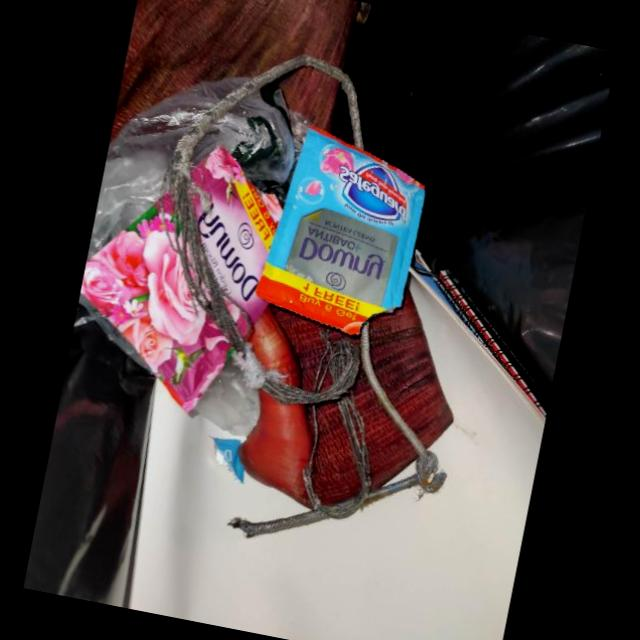carton: (122, 259, 546, 640)
goi_nhua_nho: (79, 155, 282, 413), (256, 127, 424, 339)
tui_ni_long: (86, 77, 251, 262), (191, 87, 283, 184)
vo_rau_cu: (108, 0, 361, 144), (241, 390, 362, 509), (368, 289, 453, 451), (260, 305, 360, 393), (352, 366, 418, 493), (277, 67, 341, 133)
